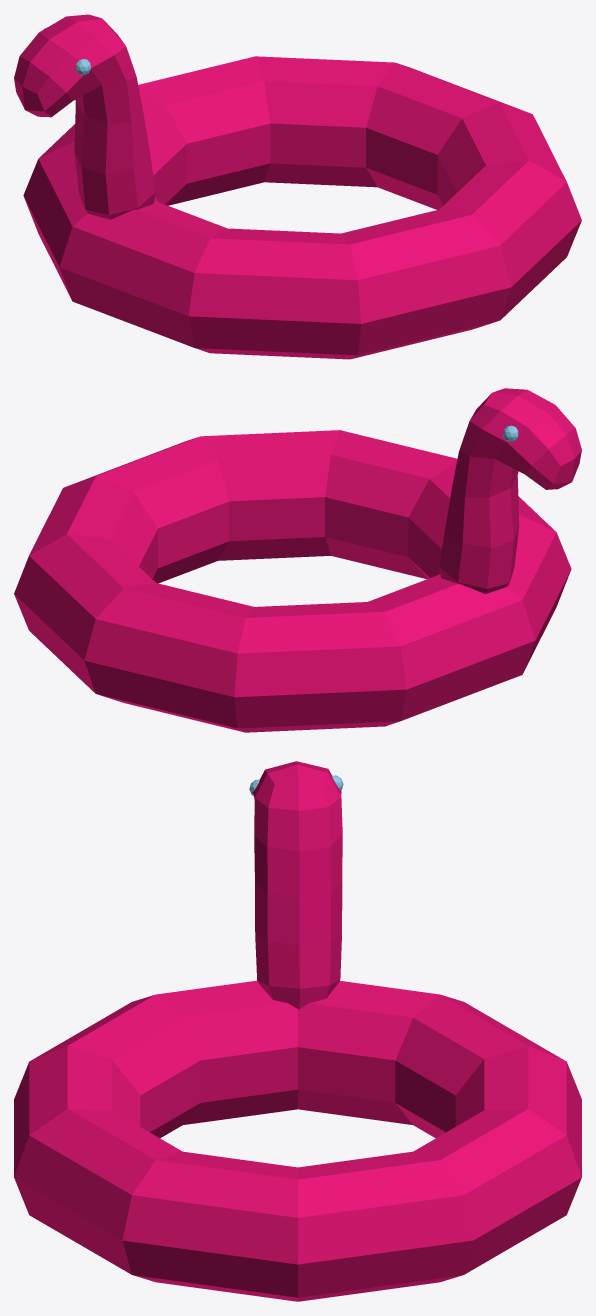
The model's file is scene_kcMrrYNUgG.glb.
The picture shows the model from 3 angles, top to bottom: view 1: azimuth 30°, elevation 25°; view 2: azimuth 150°, elevation 25°; view 3: azimuth 270°, elevation 25°; orthographic projection. The views are drawn at different scales.
Visible parts, largest first — view 1: Torus; view 2: Torus; view 3: Torus.
Part boxes in pixels (box(x1,y1,x2,y2)): Torus: box(14, 14, 581, 359); Torus: box(14, 388, 581, 732); Torus: box(14, 761, 581, 1301).
Size of the model in its own units: 5.74 by 3.12 by 5.06.
